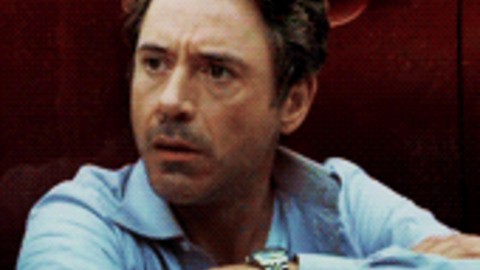confused: (128, 21, 266, 207)
